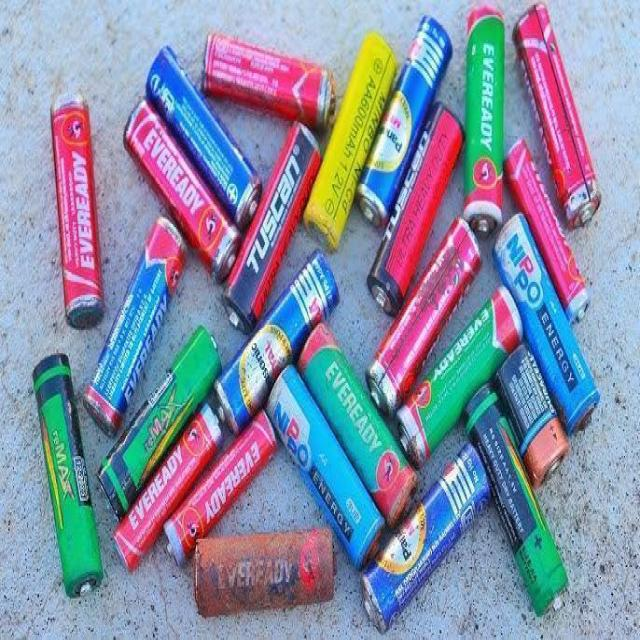AA: (93, 319, 228, 527), (459, 374, 572, 617), (490, 210, 604, 445), (361, 439, 494, 638), (264, 363, 387, 576), (80, 213, 192, 445), (365, 209, 486, 423), (296, 320, 420, 528), (214, 242, 344, 439), (398, 281, 527, 474), (120, 92, 245, 290), (144, 41, 265, 234), (219, 117, 324, 337), (365, 96, 468, 319), (353, 10, 458, 228), (302, 27, 401, 255), (511, 1, 605, 234), (31, 349, 104, 605), (198, 26, 337, 131), (48, 87, 105, 335), (193, 524, 340, 619), (464, 1, 507, 241)
AAA: (109, 399, 229, 584), (162, 401, 282, 573), (500, 133, 594, 330)
